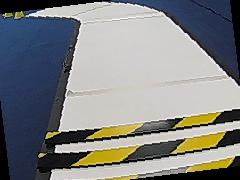bump: (35, 111, 239, 172)
